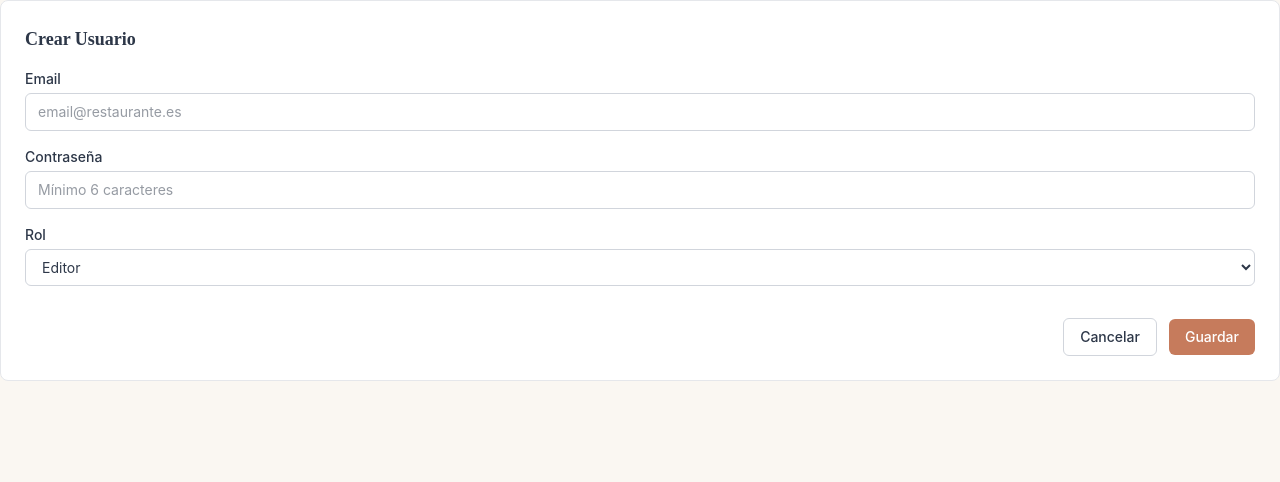
it: UsuarioForm (USR-001, USR-002) › shows validation error for invalid email format
The width and height of the screenshot is (1280, 482).
Type "not-an-email" into the field with id "email".
click(640, 112); type("not-an-email")  # box [25, 93, 1255, 131]
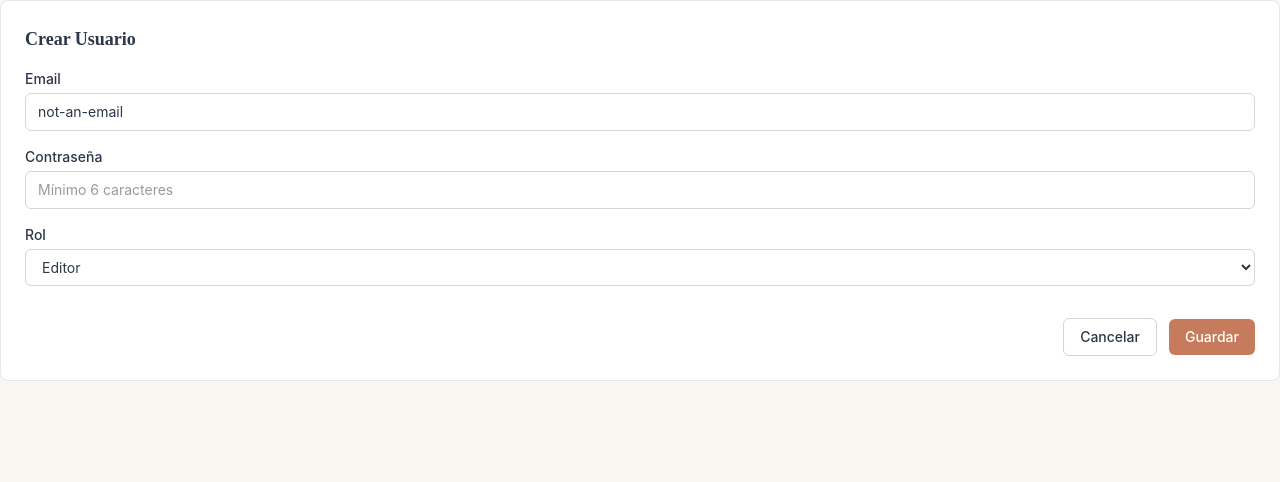
Submit the form
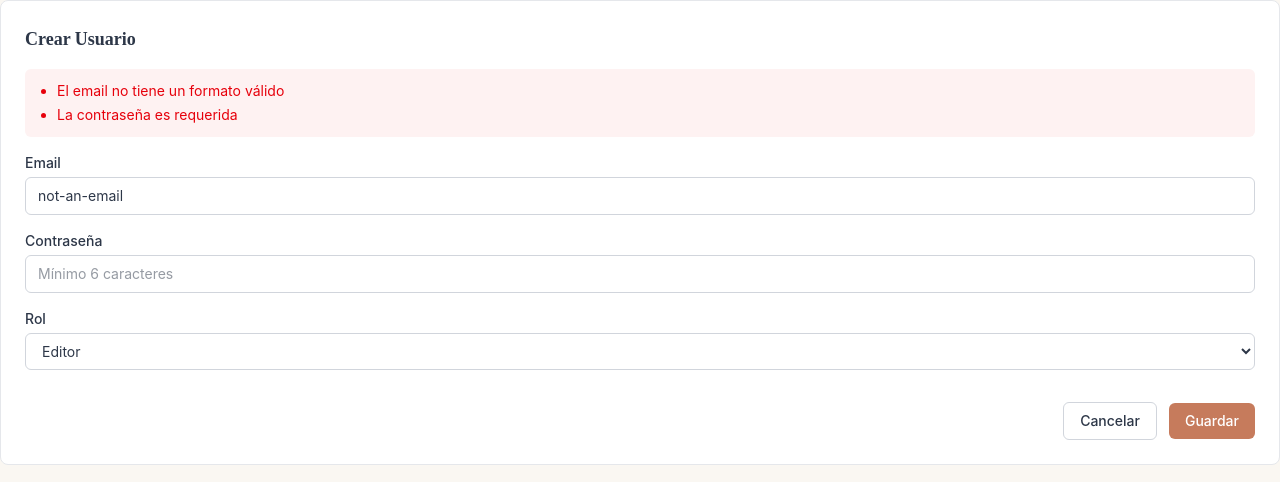
Check: the form shows "formato", box [57, 82, 284, 99]
